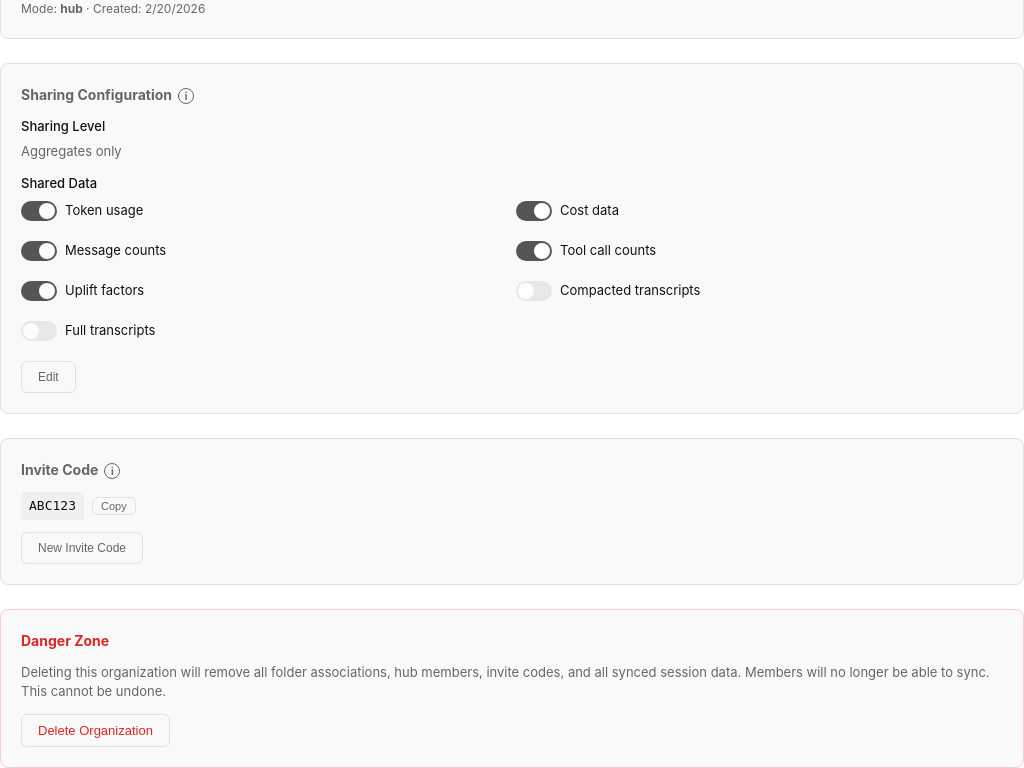
Test: OrganizationSettings › Danger Zone › closes delete modal when Cancel is clicked
(page scrolled)
Click the button "Delete Organization" at (95, 730), box [21,714,170,746]
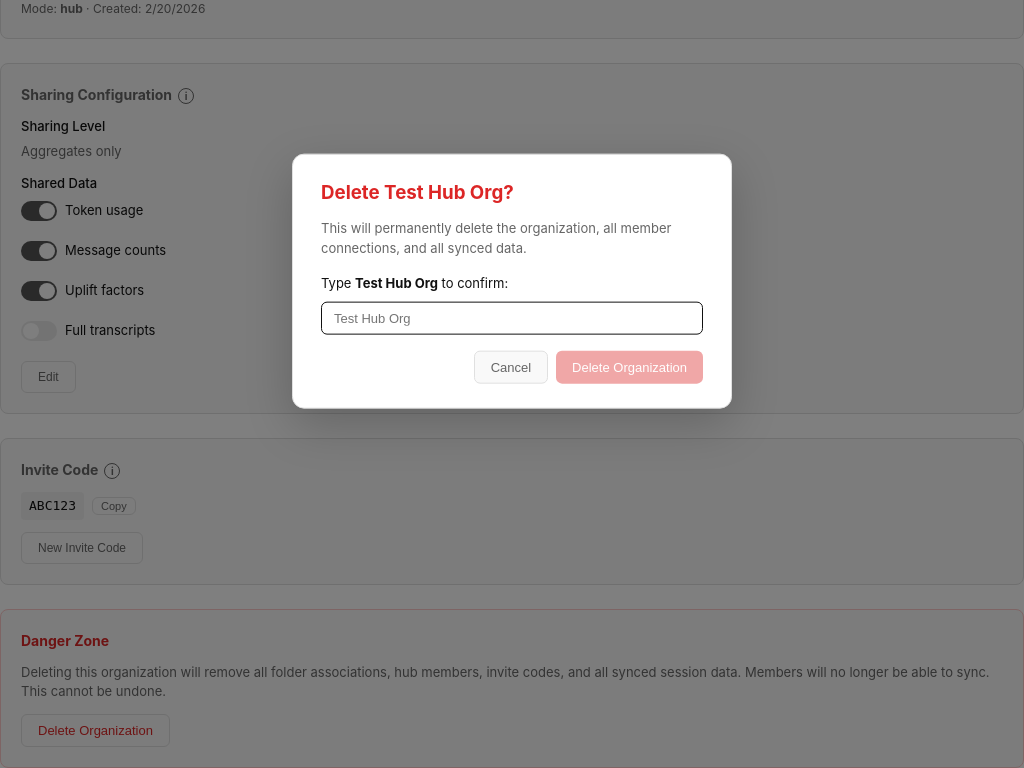
expect the heading "Delete Test Hub Org?" is shown: met, box [321,181,514,204]
Click the button "Cancel" at (511, 367), box [474,351,548,384]
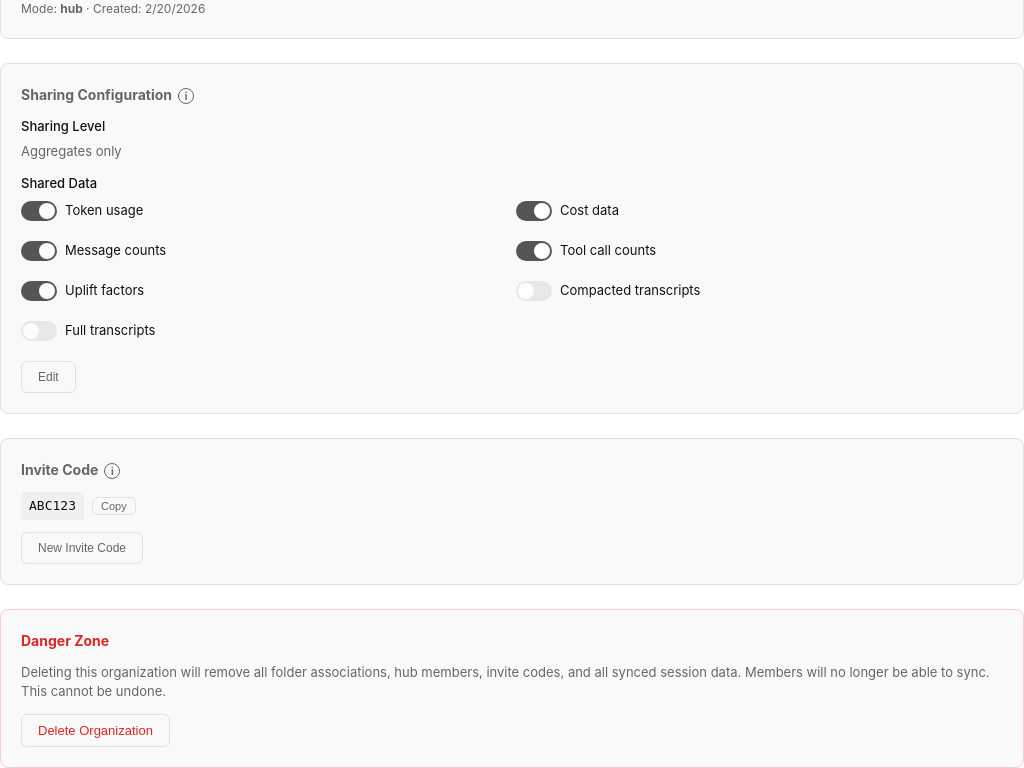
expect the heading "Delete Test Hub Org?" is gone: met
